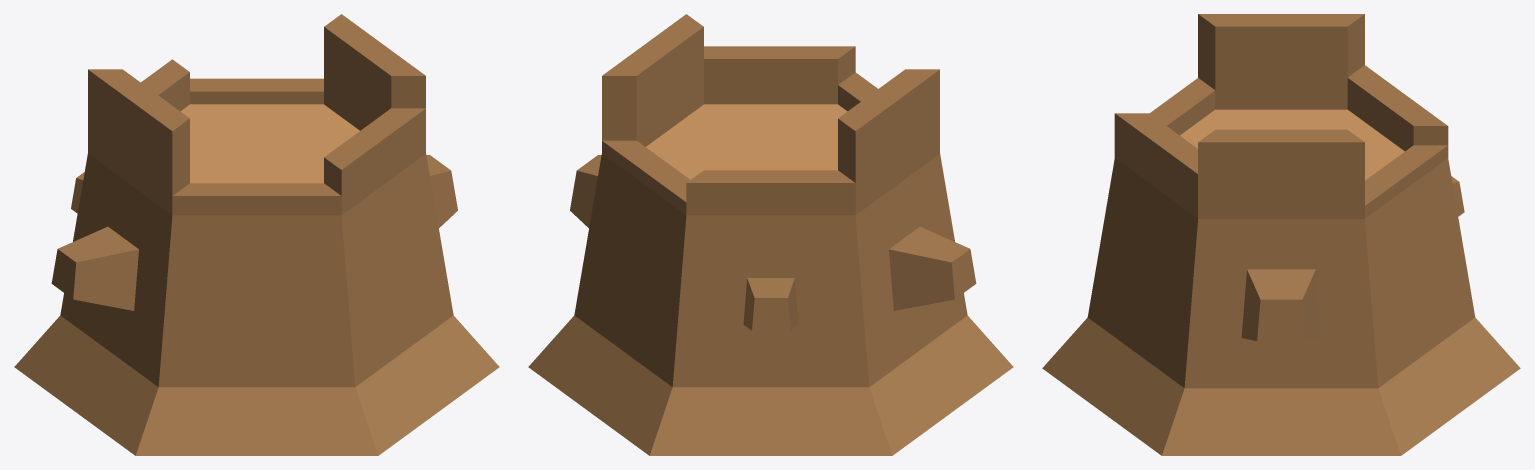
File: trunk.fbx
The picture shows the model from 3 angles, left to right: view 1: azimuth 30°, elevation 25°; view 2: azimuth 150°, elevation 25°; view 3: azimuth 270°, elevation 25°; orthographic projection.
Visible parts, largest first — view 1: trunk; view 2: trunk; view 3: trunk.
Boxes of the visible parts, bbox=[...] form: trunk: bbox=[14, 14, 499, 455]; trunk: bbox=[528, 14, 1013, 455]; trunk: bbox=[1042, 14, 1520, 455].
Size of the model in its own units: 5.02 by 3.73 by 5.51.
